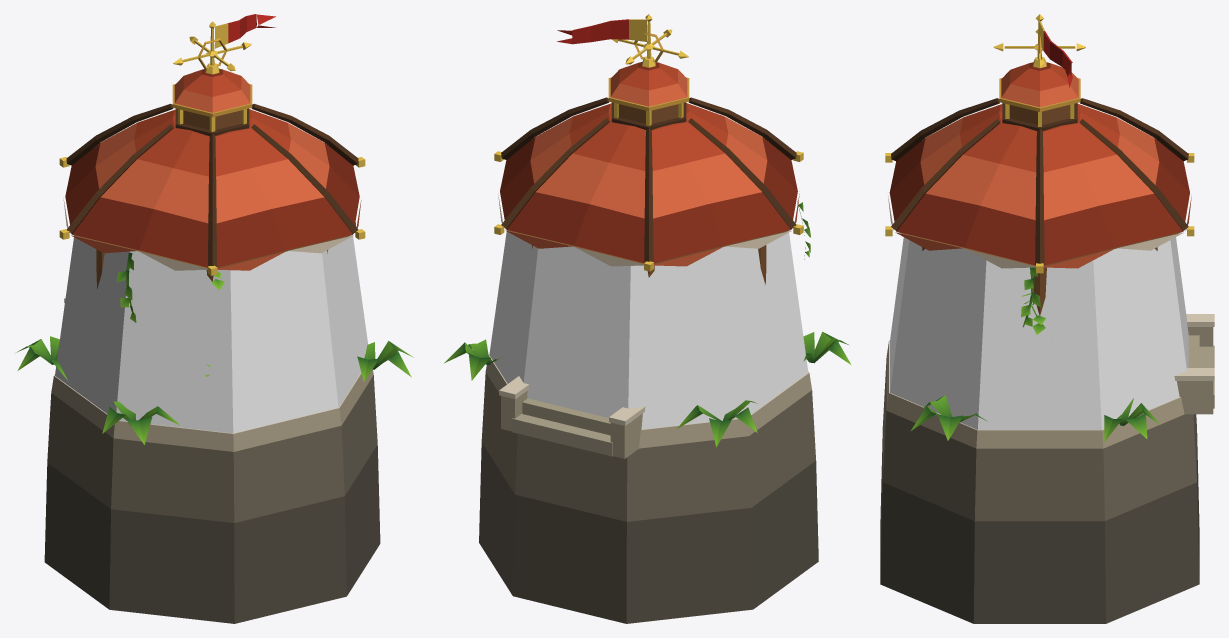
Rendered from pirate_chart_navigator_gazebo.glb.
3 views of the same model, side by side, from view 1: azimuth 30°, elevation 25°; view 2: azimuth 150°, elevation 25°; view 3: azimuth 270°, elevation 25° (orthographic). The views are drawn at different scales.
Parts seen in each view (by area): view 1: pirate_chart_navigator_gazebo, col_gazebo_base; view 2: pirate_chart_navigator_gazebo, col_gazebo_base; view 3: pirate_chart_navigator_gazebo, col_gazebo_base.
Part boxes in pixels (x1,y1,x2,y2): pirate_chart_navigator_gazebo: [16, 14, 413, 623]; col_gazebo_base: [55, 235, 368, 433]; pirate_chart_navigator_gazebo: [444, 14, 851, 623]; col_gazebo_base: [489, 230, 808, 429]; pirate_chart_navigator_gazebo: [880, 14, 1214, 623]; col_gazebo_base: [890, 237, 1188, 429].
Bounding box in the file's own units: 5.41 × 8.8 × 4.92.
